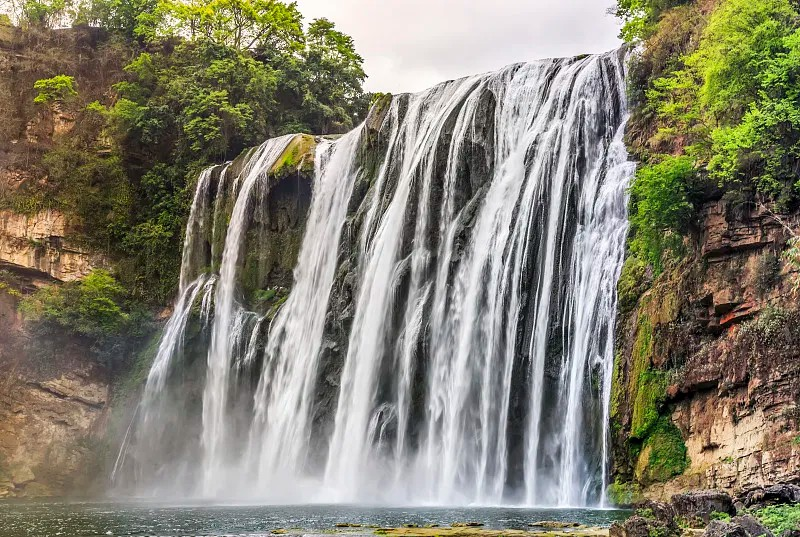Huangguoshu: (111, 55, 633, 512)
